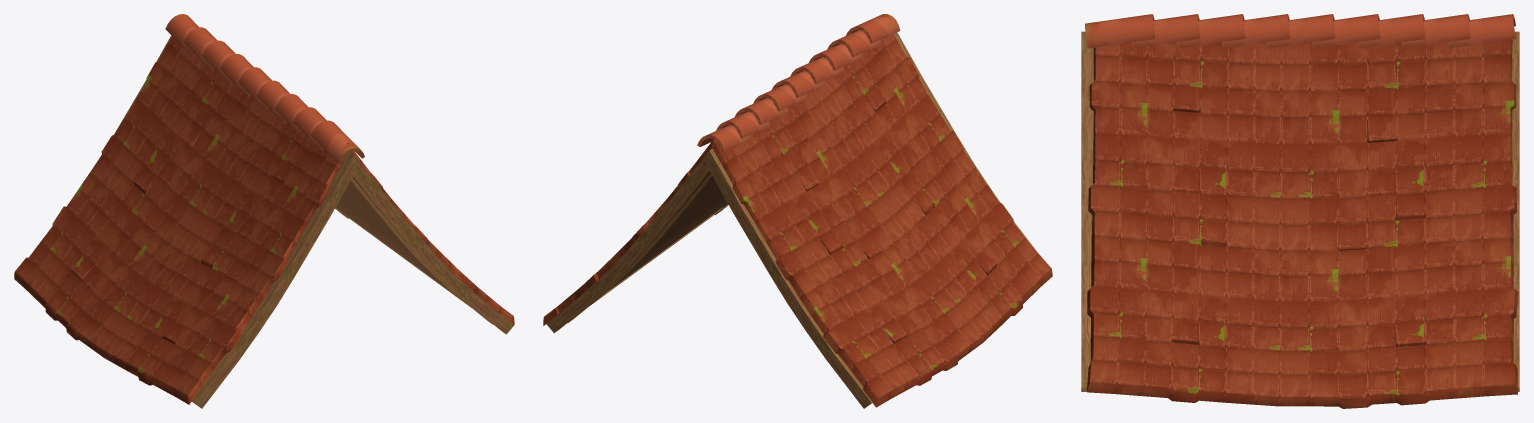
Rendered from Roof_FlatTiles_6x6.gltf.
3 views of the same model, side by side, from view 1: azimuth 30°, elevation 25°; view 2: azimuth 150°, elevation 25°; view 3: azimuth 270°, elevation 25° (orthographic). The views are drawn at different scales.
Visible parts, largest first — view 1: Roof_FlatTiles_6x6; view 2: Roof_FlatTiles_6x6; view 3: Roof_FlatTiles_6x6.
Part boxes in pixels (bbox=[...]): Roof_FlatTiles_6x6: bbox=[14, 14, 514, 408]; Roof_FlatTiles_6x6: bbox=[543, 14, 1052, 408]; Roof_FlatTiles_6x6: bbox=[1081, 14, 1519, 408].
Bounding box in the file's own units: 8.61 × 5.52 × 7.59.
3 materials, 3 textured.
